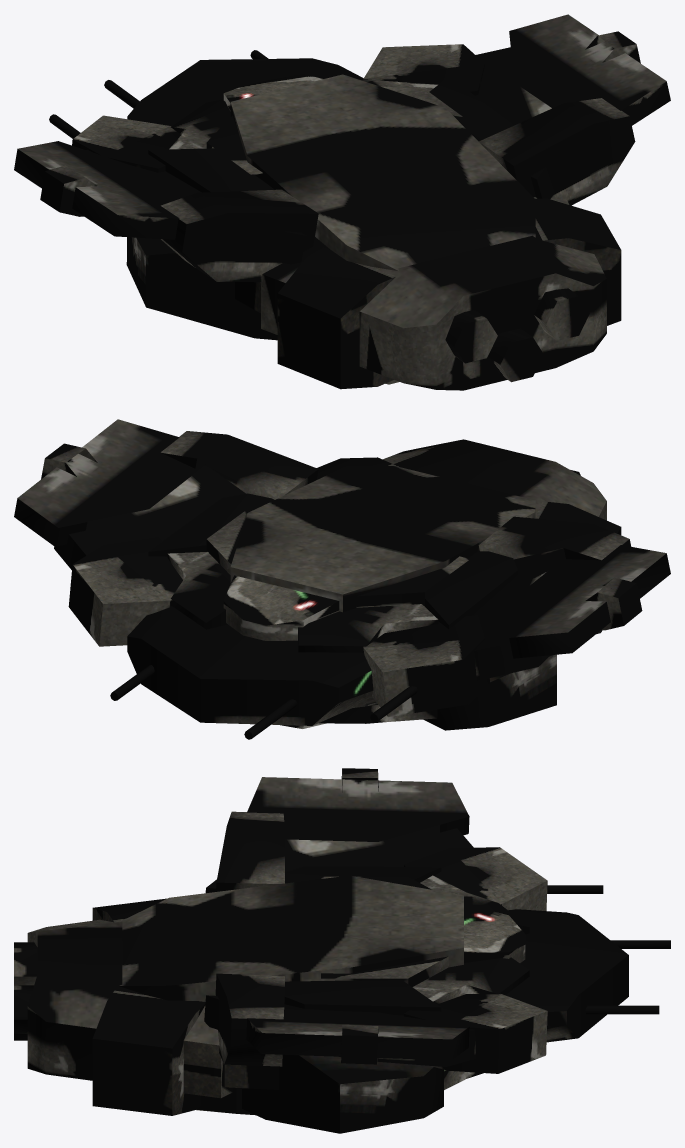
File: ship09d.fbx
The picture shows the model from 3 angles, top to bottom: view 1: azimuth 30°, elevation 25°; view 2: azimuth 150°, elevation 25°; view 3: azimuth 270°, elevation 25°; orthographic projection. The views are drawn at different scales.
Parts seen in each view (by area): view 1: PipelineFBX; view 2: PipelineFBX; view 3: PipelineFBX.
Part boxes in pixels (<box>): PipelineFBX: <box>14,14,670,390</box>; PipelineFBX: <box>14,419,670,739</box>; PipelineFBX: <box>14,768,670,1133</box>.
Bounding box in the file's own units: 520 × 160 × 530.
Materials: 1 (1 with a texture image).
